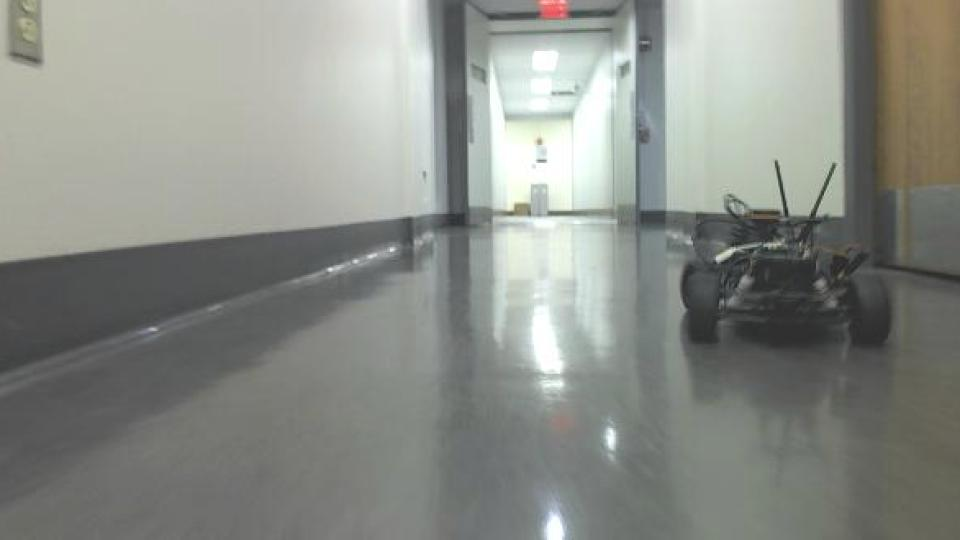car: (678, 156, 898, 351)
